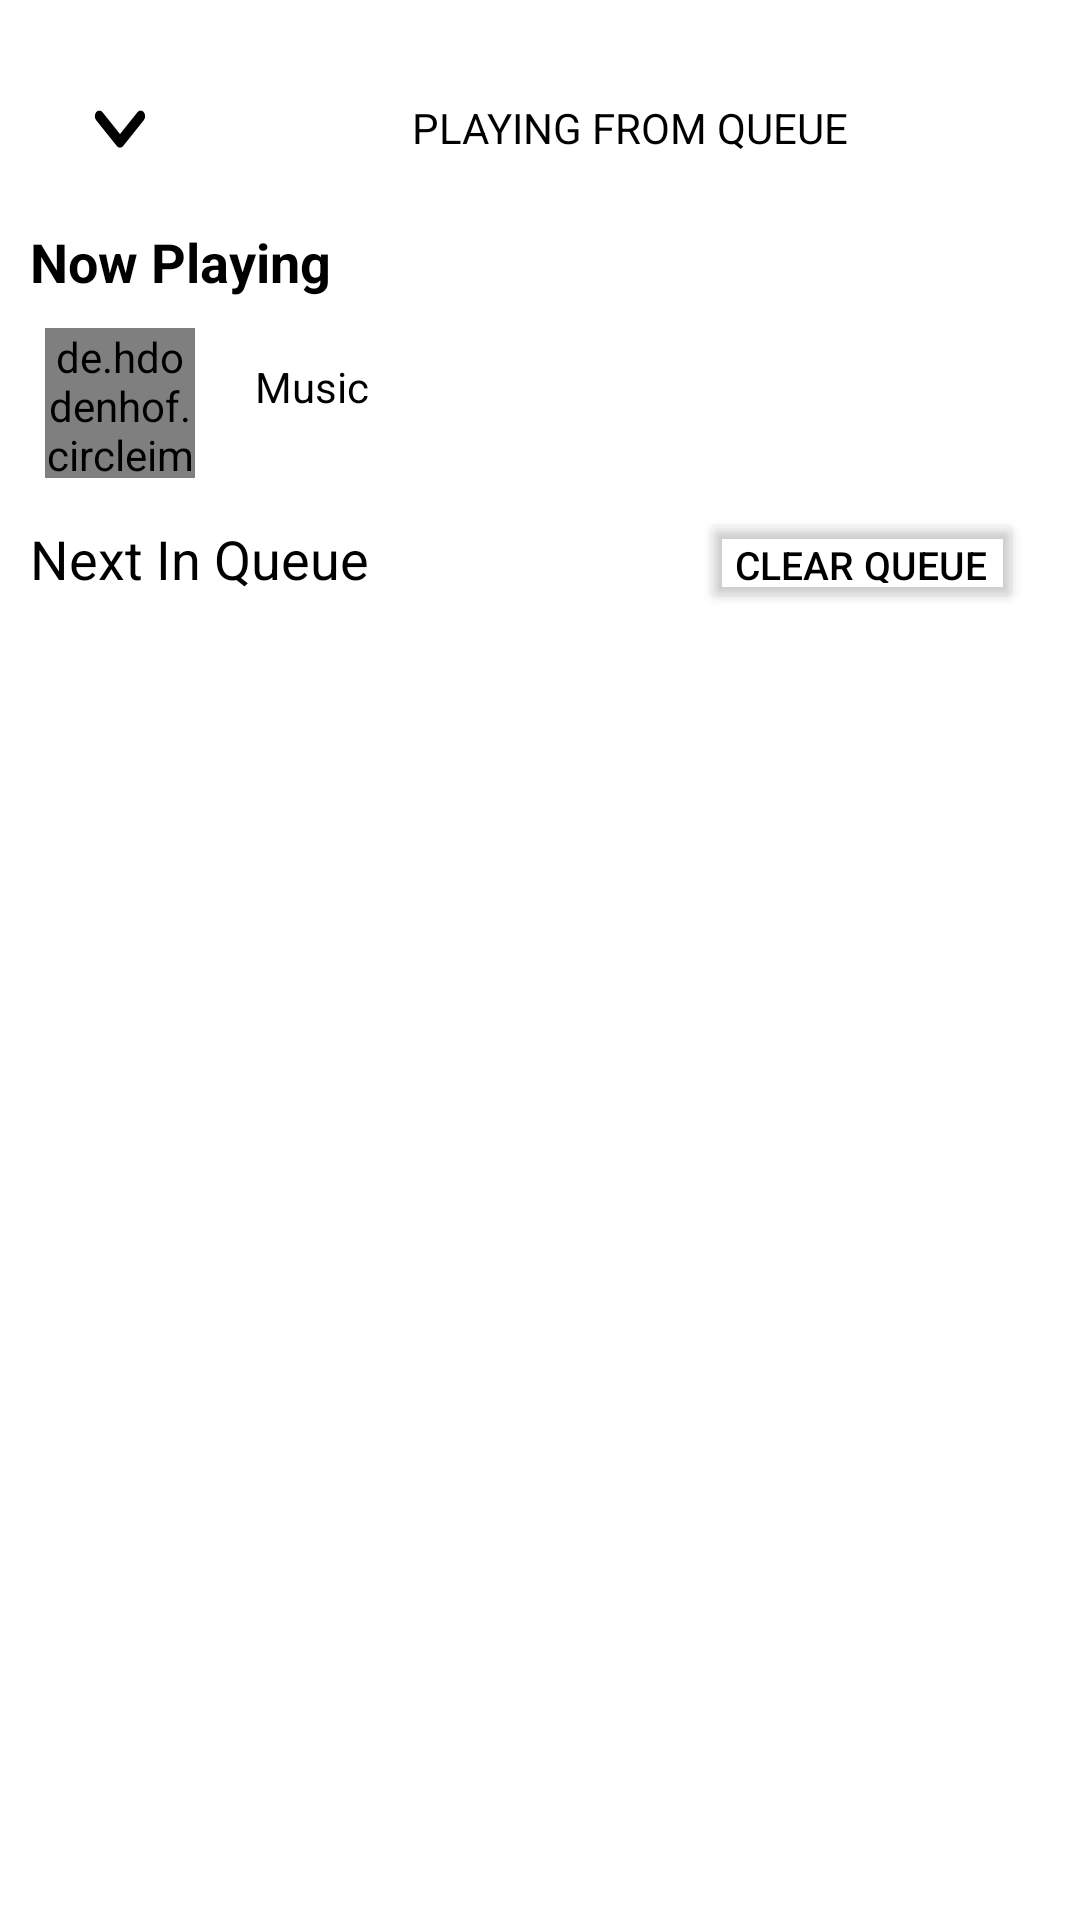

Icons on this 1080w x 1920h Android screen, each with its box as (x1, y1, x2, y2):
queue down: (94, 110, 145, 148)
